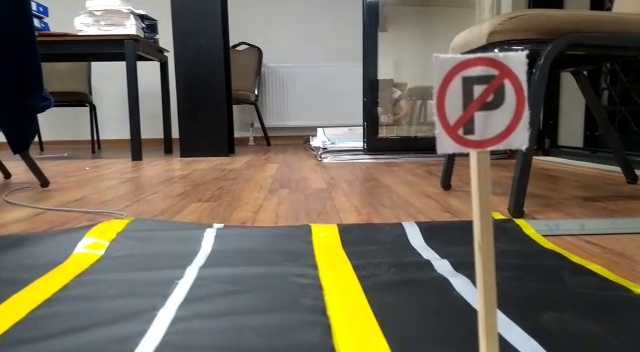park_yapilmaz: (431, 54, 526, 149)
